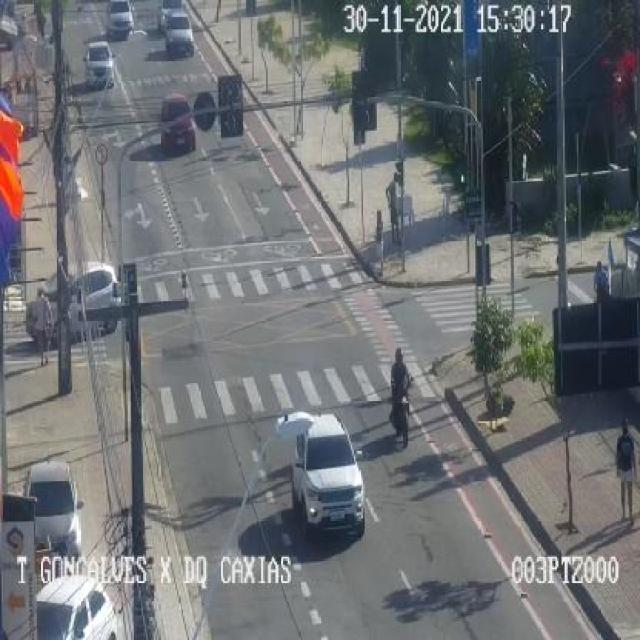Car: (286, 416, 369, 530), (155, 96, 201, 157), (84, 41, 116, 87), (103, 0, 135, 38)
Cycle: (388, 342, 416, 446)
Van: (164, 12, 193, 54)
